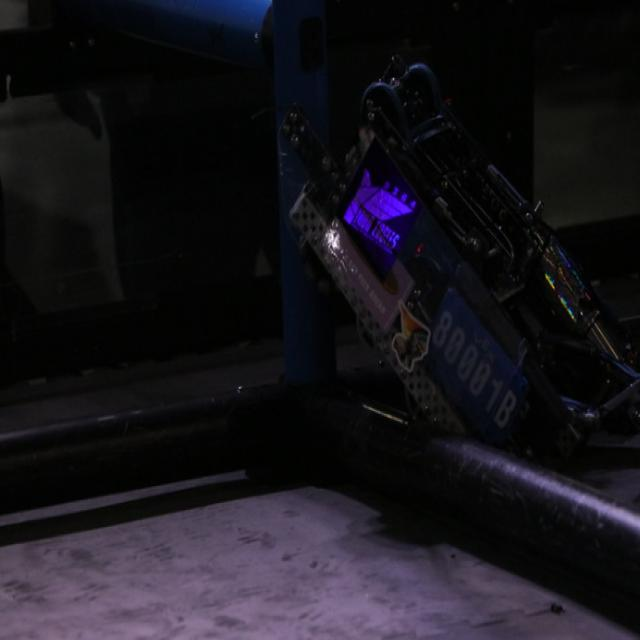License-Plates: (426, 287, 518, 449)
